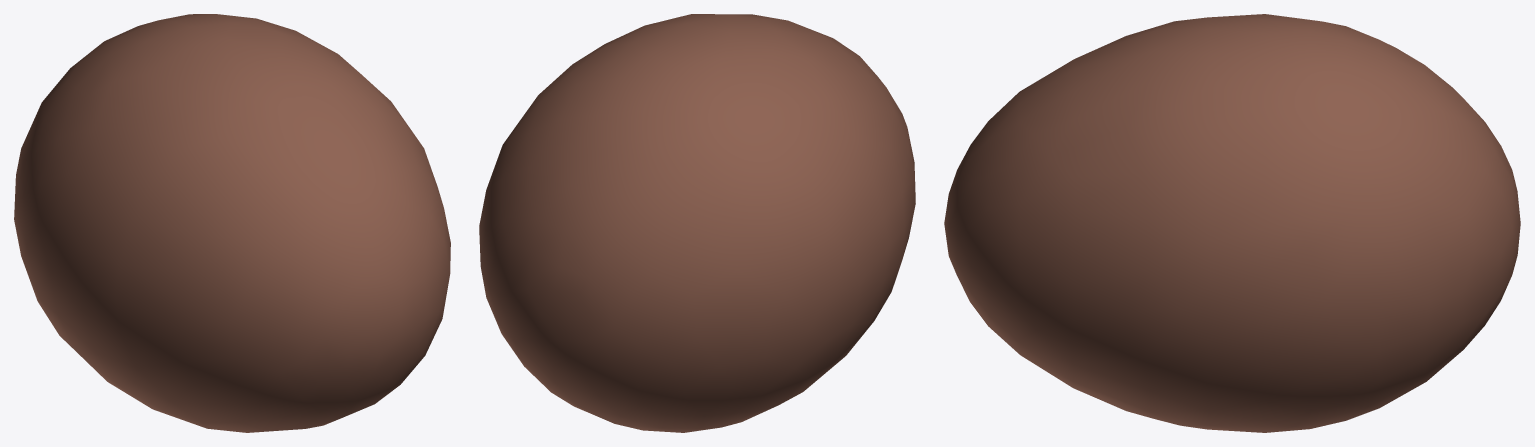
The model's file is MeshEgg_28_0.obj.
The picture shows the model from 3 angles, left to right: view 1: azimuth 30°, elevation 25°; view 2: azimuth 150°, elevation 25°; view 3: azimuth 270°, elevation 25°; orthographic projection. The views are drawn at different scales.
Parts seen in each view (by area): view 1: Egg_28; view 2: Egg_28; view 3: Egg_28.
Part boxes in pixels (box(x1,y1,x2,y2)): Egg_28: box(14, 14, 450, 432); Egg_28: box(479, 14, 915, 432); Egg_28: box(944, 14, 1520, 432).
Bounding box in the file's own units: 0.0663 × 0.0663 × 0.0913.
